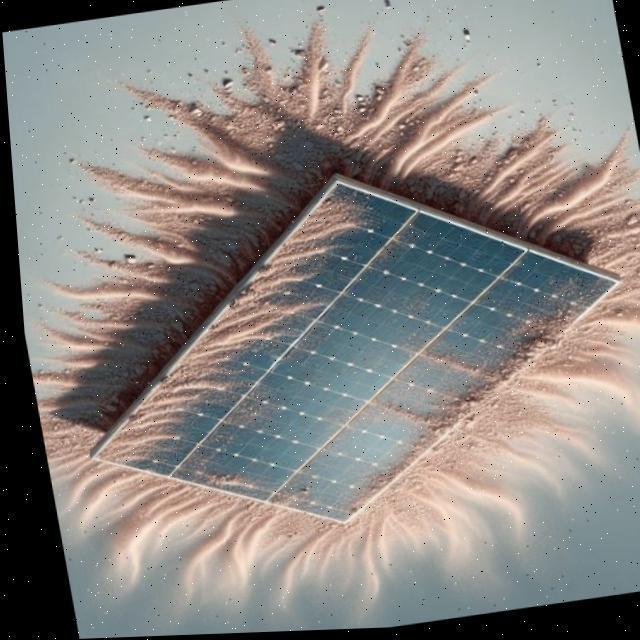Anomaly Solar Panel: (85, 101, 616, 633)
Surface Contaminant: (86, 169, 432, 536), (283, 239, 633, 522), (157, 425, 232, 492), (255, 483, 316, 525), (184, 471, 264, 503)
